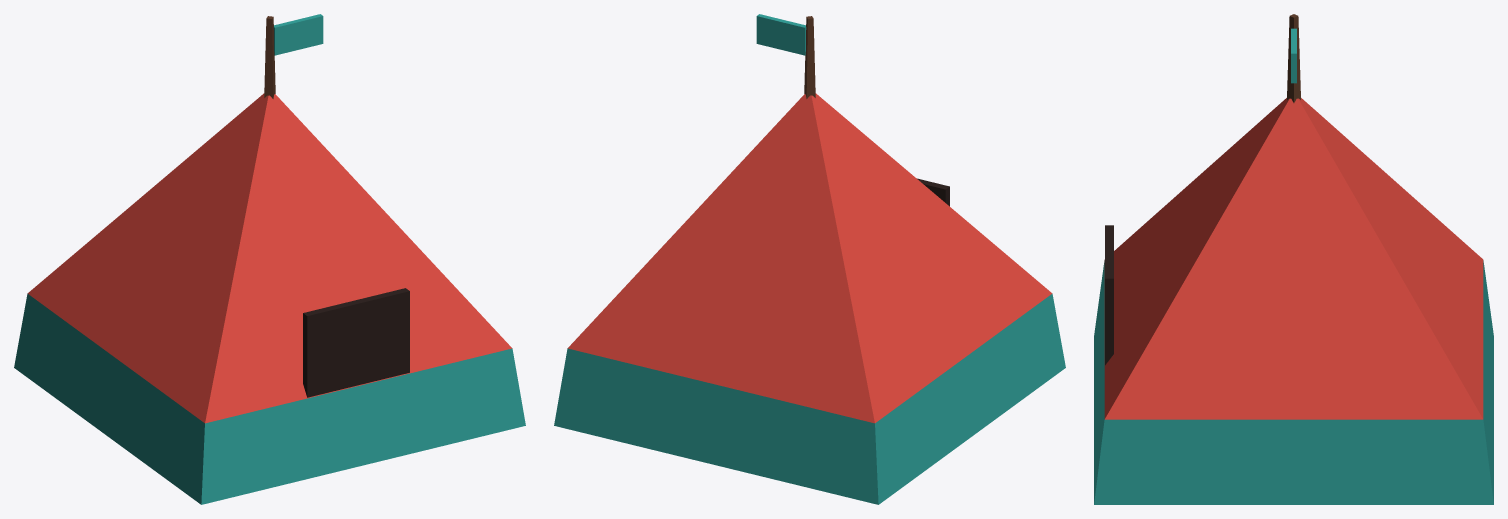
Rendered from CA_Carpa.obj.
3 views of the same model, side by side, from view 1: azimuth 30°, elevation 25°; view 2: azimuth 150°, elevation 25°; view 3: azimuth 270°, elevation 25° (orthographic). The views are drawn at different scales.
Visible parts, largest first — view 1: CA_Carpa; view 2: CA_Carpa; view 3: CA_Carpa.
Boxes of the visible parts, <box> form: CA_Carpa: <box>14,14,525,504</box>; CA_Carpa: <box>554,14,1065,504</box>; CA_Carpa: <box>1094,14,1493,504</box>.
Bounding box in the file's own units: 2.69 × 3 × 2.69.
